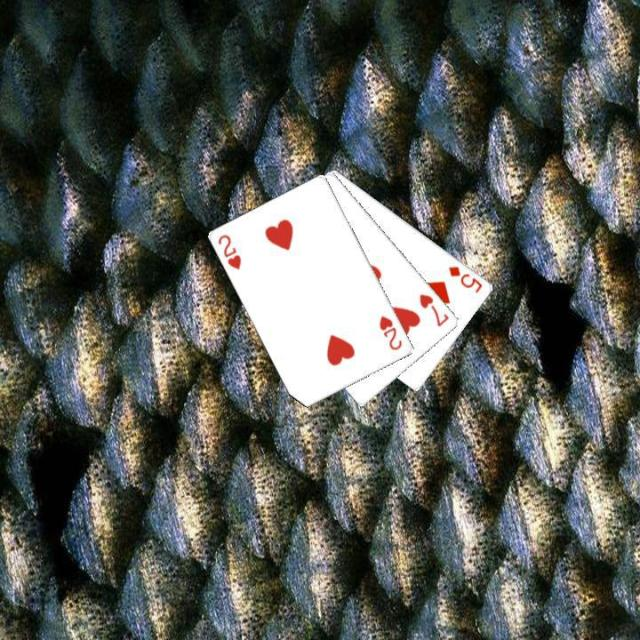2H: (214, 230, 244, 272), (375, 312, 405, 352)
5D: (446, 262, 484, 294)
7H: (415, 290, 452, 329)
